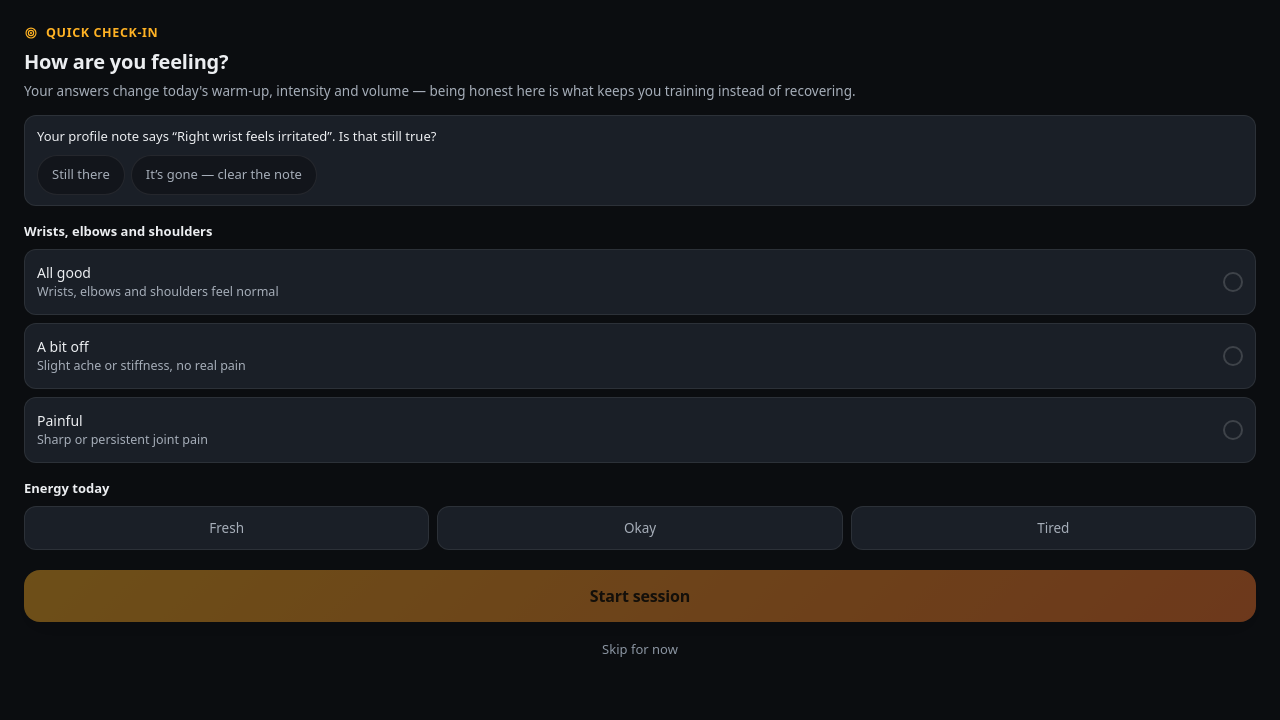
Test: the check-in and the profile note › shows the note and clears it when the athlete says it is gone
Expected: the text "Right wrist feels irritated" is shown, [177, 127, 327, 145]
Click the button "It’s gone — clear the note": (224, 175) [131, 155, 317, 195]
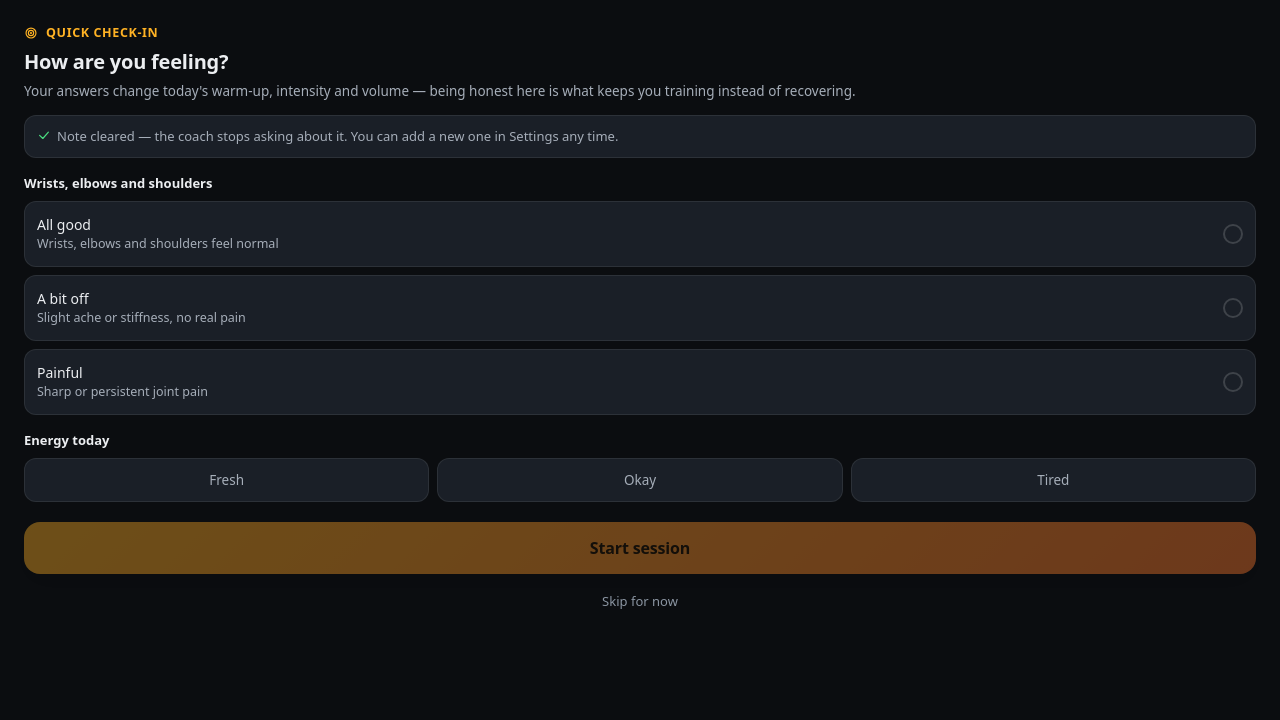
Now the text "Note cleared" is shown, box [57, 127, 618, 145]
